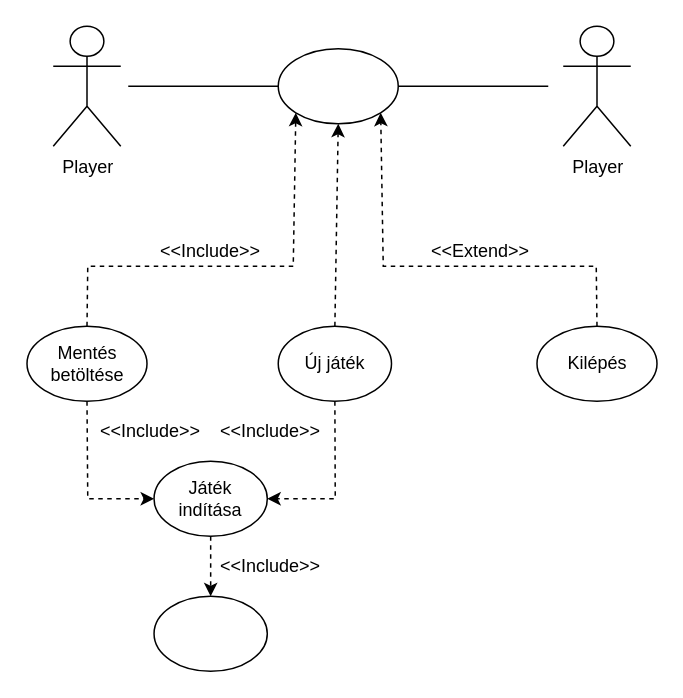
Some shapes in this 683 by 698 pixel diagram are drawn without their labels. Each missing label, with the box of its shape:
Centrális adatbázis: (277, 47, 398, 124)
Világ betöltése: (153, 595, 267, 671)
